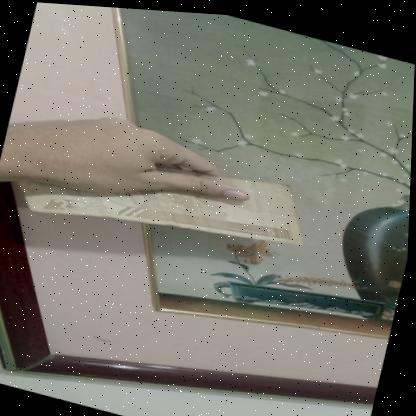five-back-vef: (11, 114, 318, 276)
